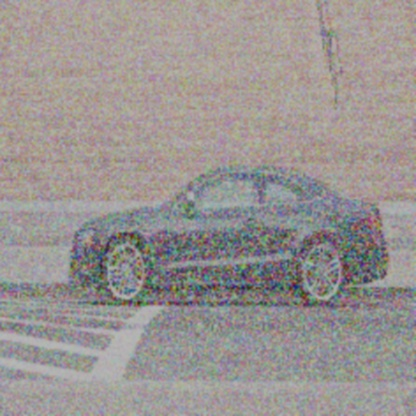Vehicle: (70, 168, 390, 309)
